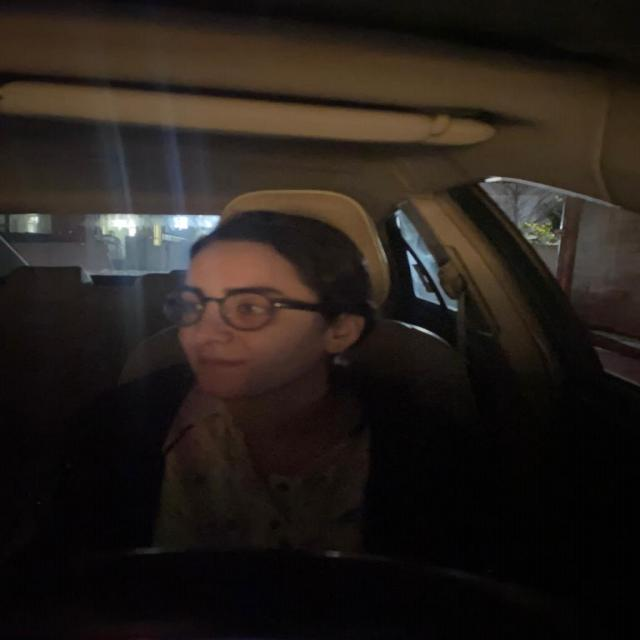LeftRight: (167, 205, 379, 412)
